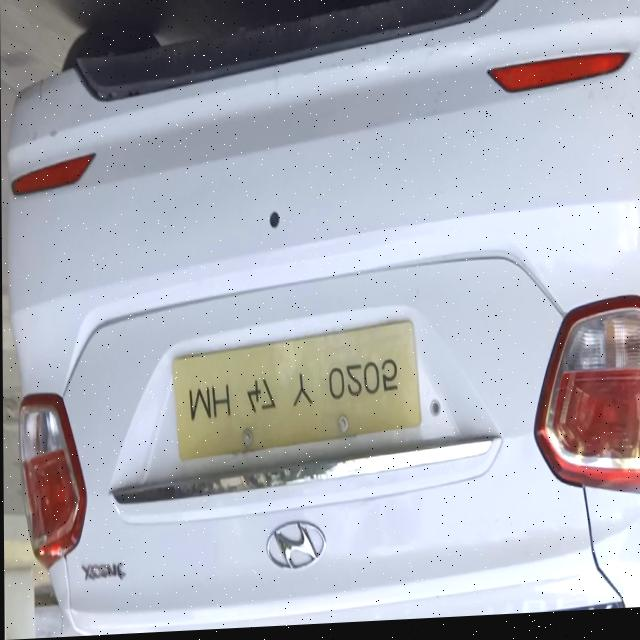plate: (172, 323, 422, 464)
